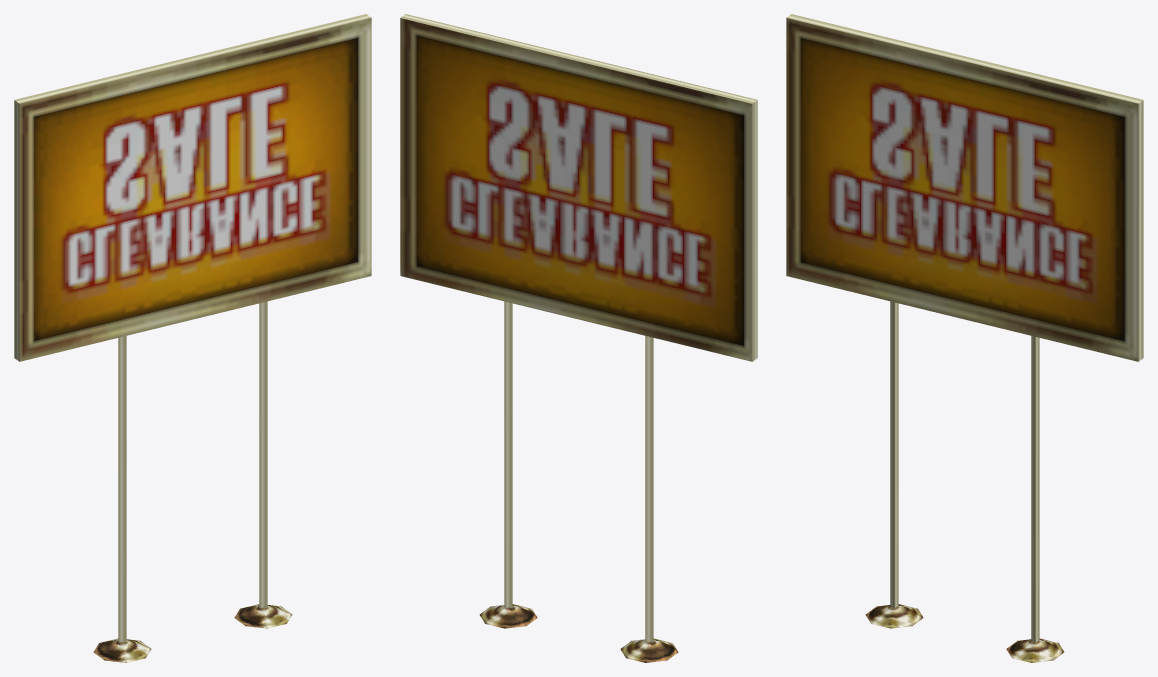
The model's file is sale_generic_hanging.fbx.
3 views of the same model, side by side, from view 1: azimuth 30°, elevation 25°; view 2: azimuth 150°, elevation 25°; view 3: azimuth 330°, elevation 25° (orthographic).
Parts seen in each view (by area): view 1: mesh_0; view 2: mesh_0; view 3: mesh_0.
Part boxes in pixels (bbox=[...]): mesh_0: bbox=[14, 14, 371, 662]; mesh_0: bbox=[400, 14, 757, 662]; mesh_0: bbox=[786, 14, 1143, 662].
Bounding box in the file's own units: 100 × 156 × 13.37.
1 material, 1 textured.
